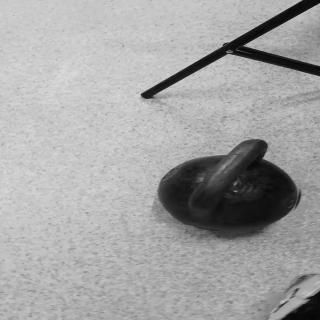kettlebell: (155, 135, 309, 232)
